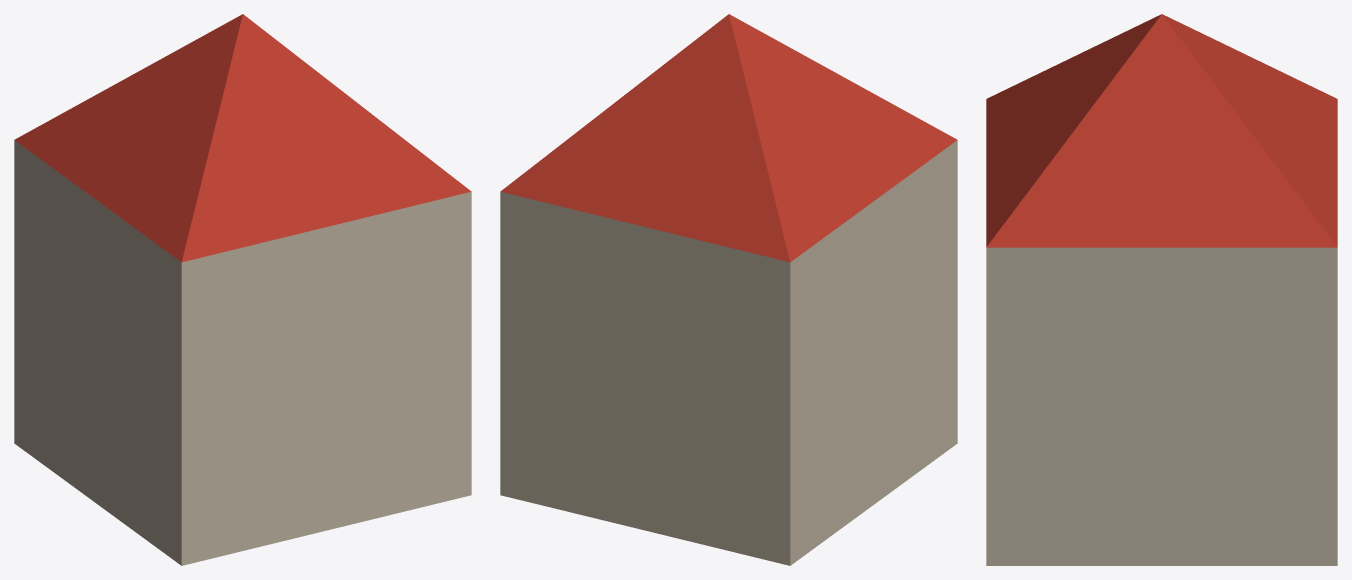
File: house.obj
3 views of the same model, side by side, from view 1: azimuth 30°, elevation 25°; view 2: azimuth 150°, elevation 25°; view 3: azimuth 270°, elevation 25° (orthographic). The views are drawn at different scales.
Parts seen in each view (by area): view 1: walls, roof; view 2: walls, roof; view 3: walls, roof.
Part boxes in pixels (bbox=[...]): walls: bbox=[14, 140, 471, 565]; roof: bbox=[14, 14, 471, 262]; walls: bbox=[500, 140, 957, 565]; roof: bbox=[500, 14, 957, 262]; walls: bbox=[986, 247, 1337, 565]; roof: bbox=[986, 14, 1337, 247].
Bounding box in the file's own units: 2 × 3 × 2.
